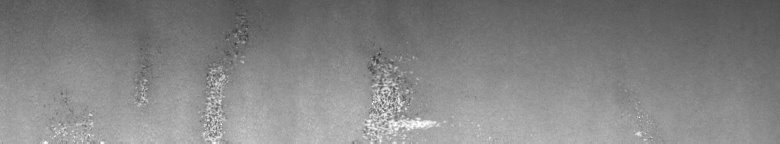hc: (362, 48, 446, 136)
